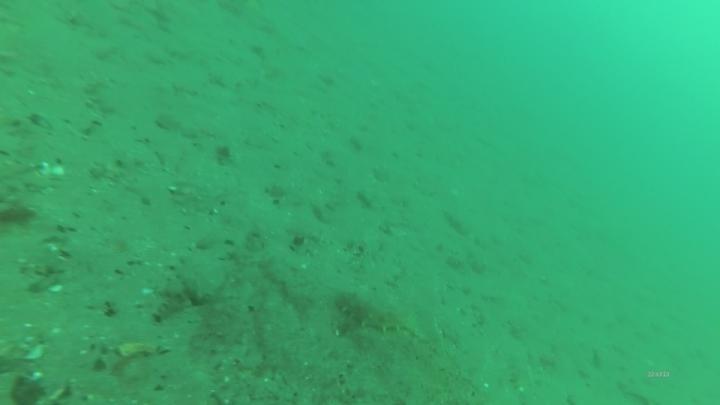holothurian: (332, 287, 421, 340)
